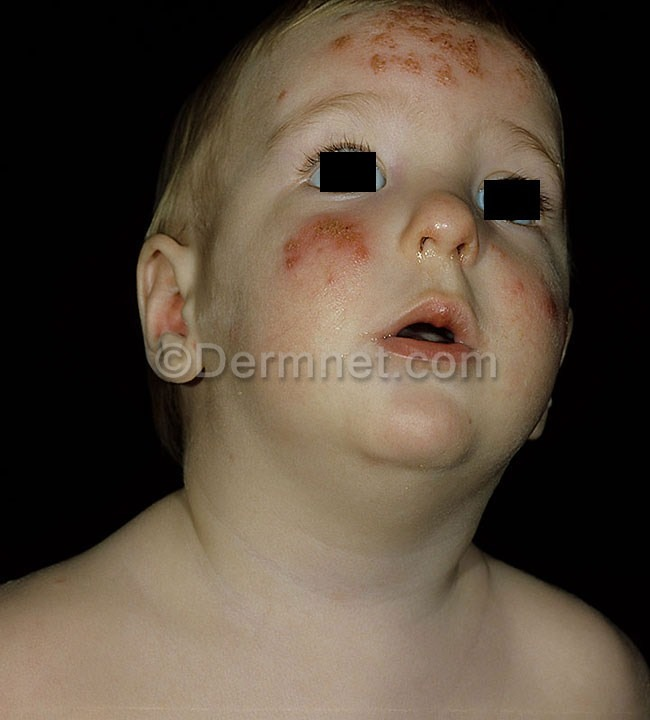Eczema: (253, 6, 555, 111), (249, 200, 397, 303), (481, 242, 569, 356), (366, 393, 477, 455)
